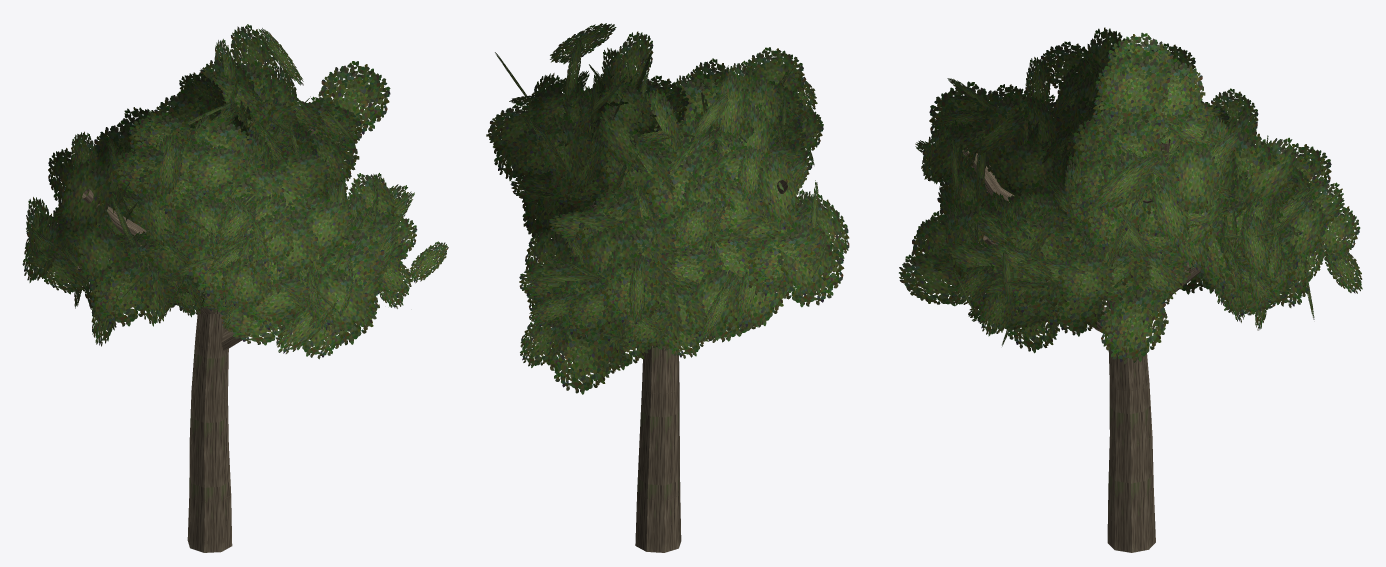
The model's file is Tree_Oak_1.gltf.
The picture shows the model from 3 angles, left to right: view 1: azimuth 30°, elevation 25°; view 2: azimuth 150°, elevation 25°; view 3: azimuth 270°, elevation 25°; orthographic projection. The views are drawn at different scales.
Visible parts, largest first — view 1: Tree_Oak_1; view 2: Tree_Oak_1; view 3: Tree_Oak_1.
Boxes of the visible parts, <box> form: Tree_Oak_1: <box>22,24,448,552</box>; Tree_Oak_1: <box>486,23,849,552</box>; Tree_Oak_1: <box>899,27,1362,552</box>.
Size of the model in its own units: 16 by 21.46 by 18.25.
2 materials, 2 textured.
